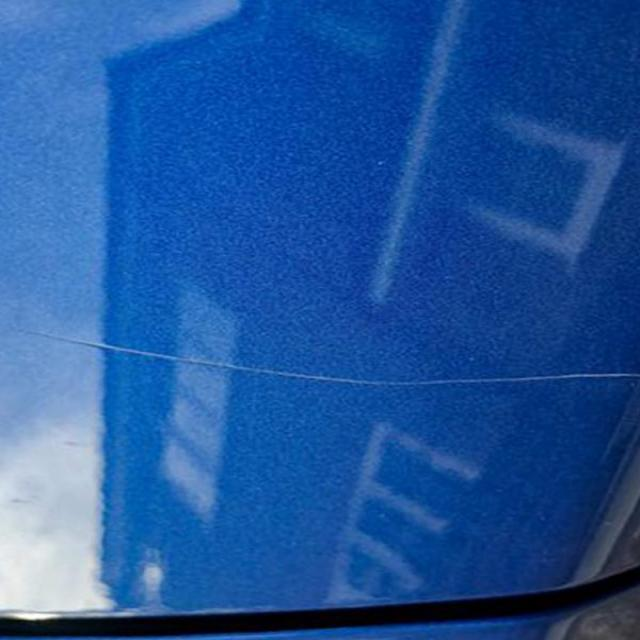scratch: (44, 322, 636, 416)
